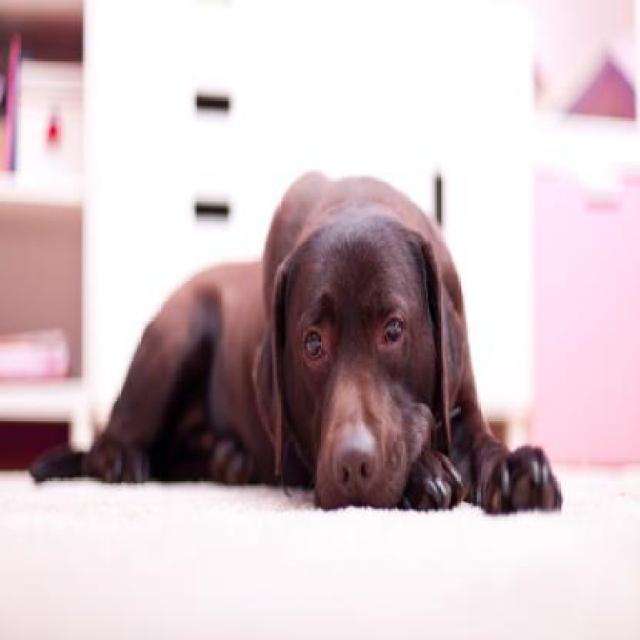dog: (93, 213, 547, 495)
